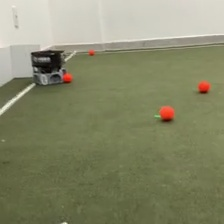ball: (158, 104, 176, 121), (197, 79, 211, 93), (61, 72, 72, 83), (87, 49, 96, 56)
robot: (29, 47, 66, 87)
